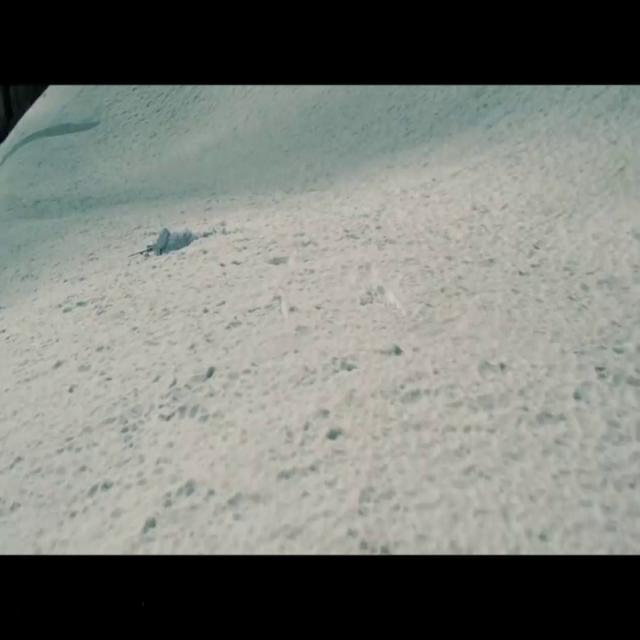Camouflage: (128, 221, 194, 253)
